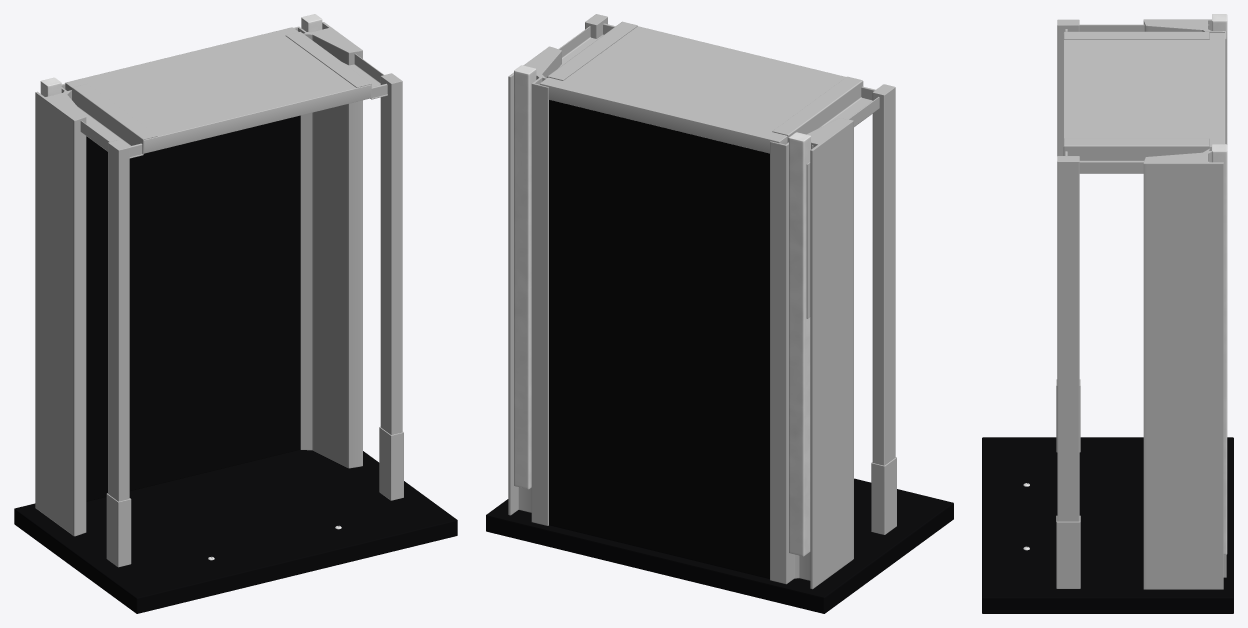
The model's file is SM_Kitchen_10_Drawer_02.obj.
3 views of the same model, side by side, from view 1: azimuth 30°, elevation 25°; view 2: azimuth 150°, elevation 25°; view 3: azimuth 270°, elevation 25° (orthographic). The views are drawn at different scales.
Parts seen in each view (by area): view 1: SM_Kitchen_10_Drawer_02; view 2: SM_Kitchen_10_Drawer_02; view 3: SM_Kitchen_10_Drawer_02.
Boxes of the visible parts, left/top/right/bottom form: SM_Kitchen_10_Drawer_02: left=14, top=14, right=457, bottom=613; SM_Kitchen_10_Drawer_02: left=486, top=14, right=953, bottom=613; SM_Kitchen_10_Drawer_02: left=982, top=14, right=1233, bottom=613.
Bounding box in the file's own units: 0.397 × 0.5199 × 0.263.
4 materials, 1 textured.
